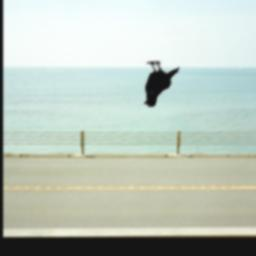Crow: (142, 61, 180, 108)
